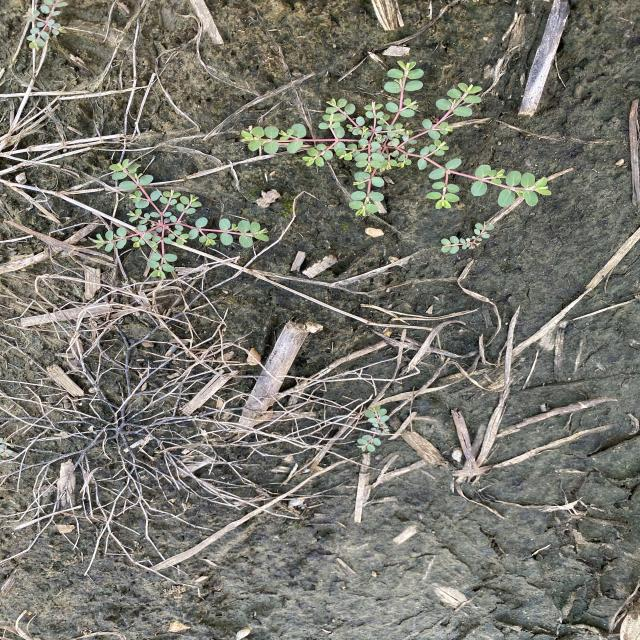SpottedSpurge: (239, 59, 555, 218), (85, 157, 270, 281), (20, 0, 71, 53), (434, 218, 495, 256), (354, 401, 394, 454)
